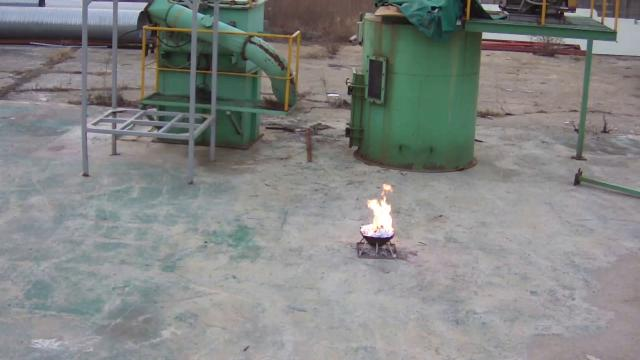fire: (367, 184, 393, 234)
